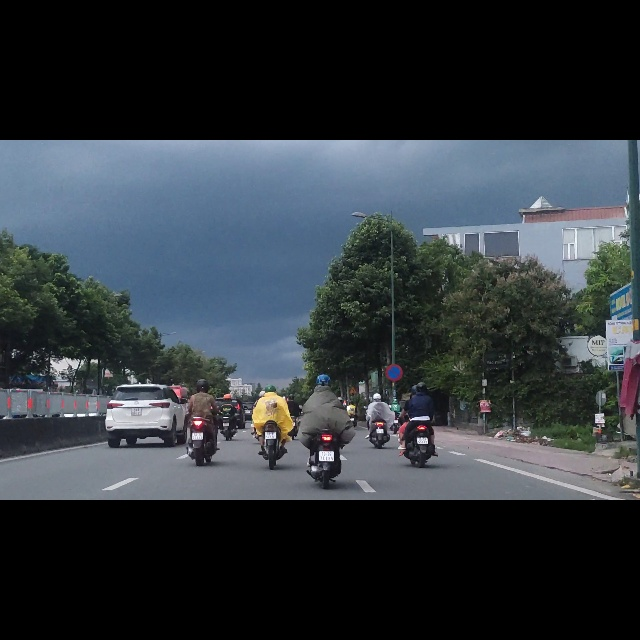bien_hieu_lenh: (385, 398, 403, 428), (349, 437, 357, 451)
